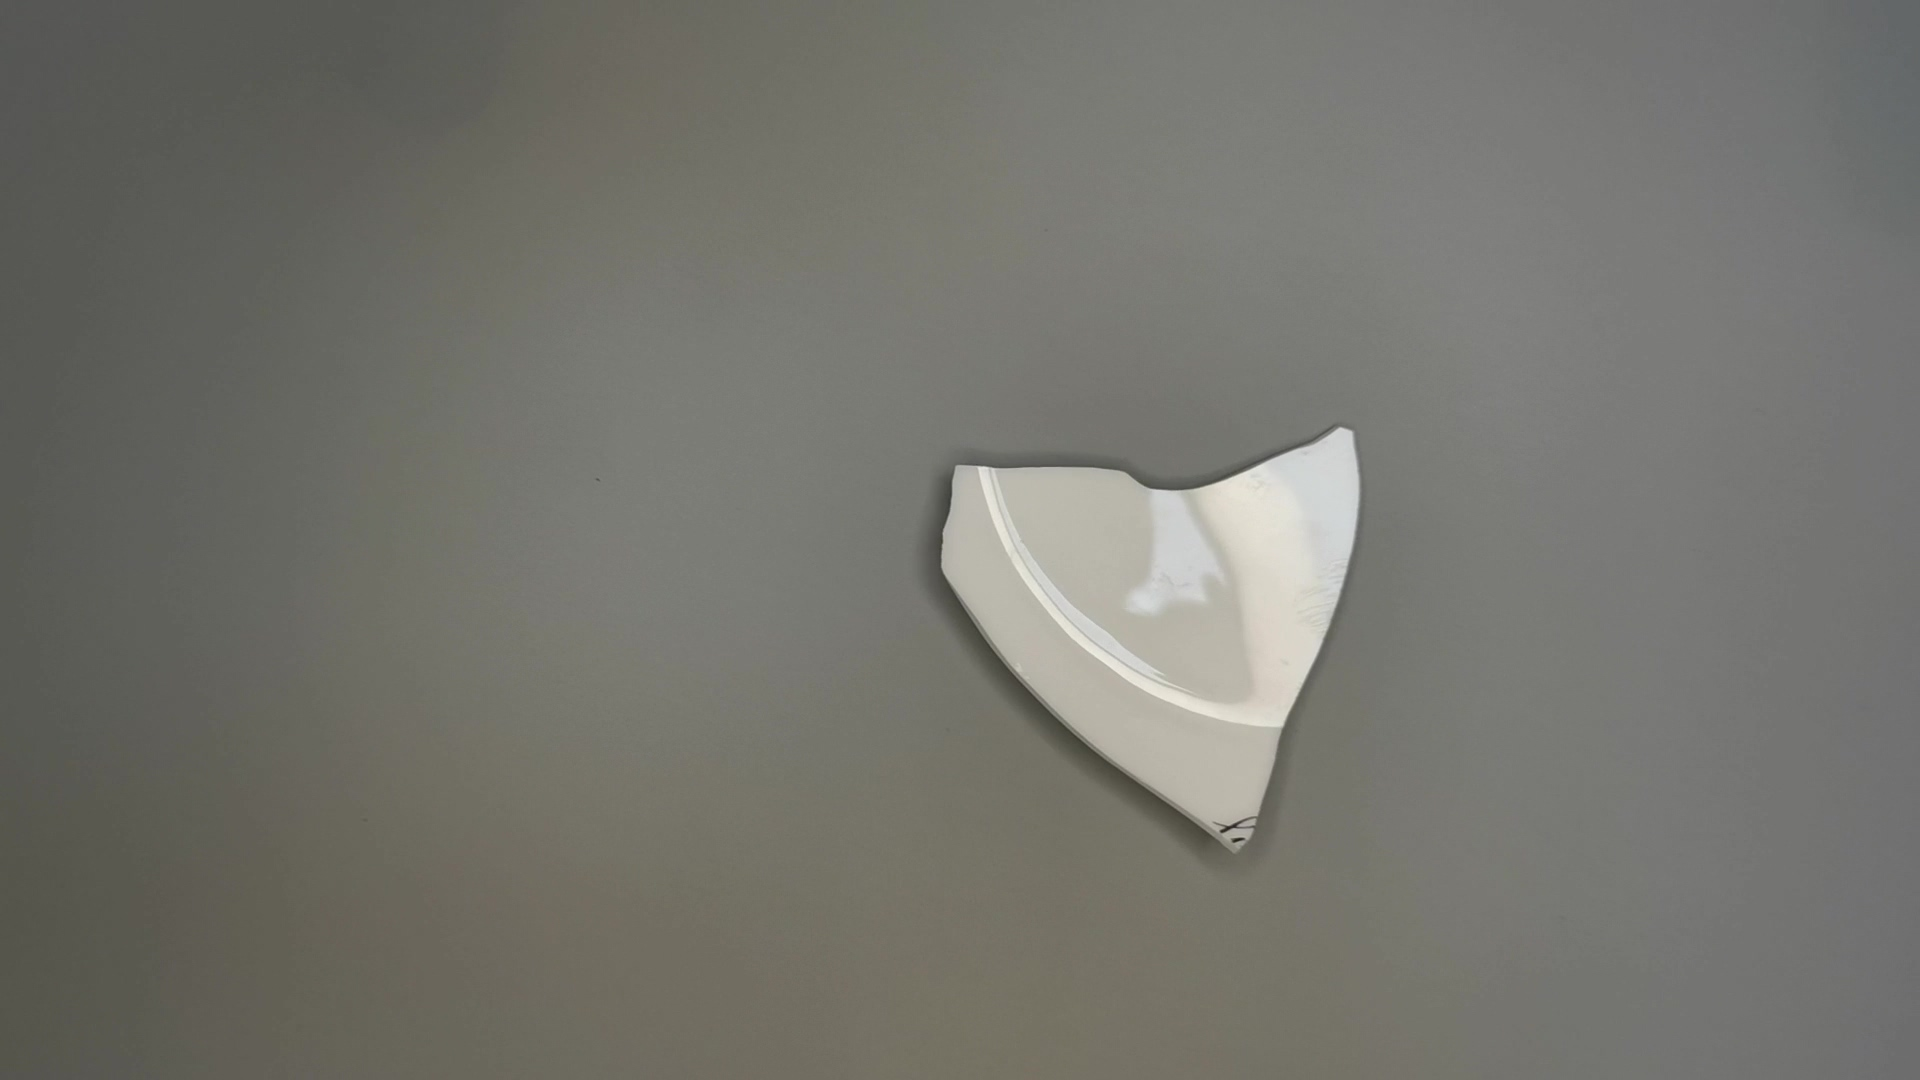ceramic: (930, 419, 1364, 864)
